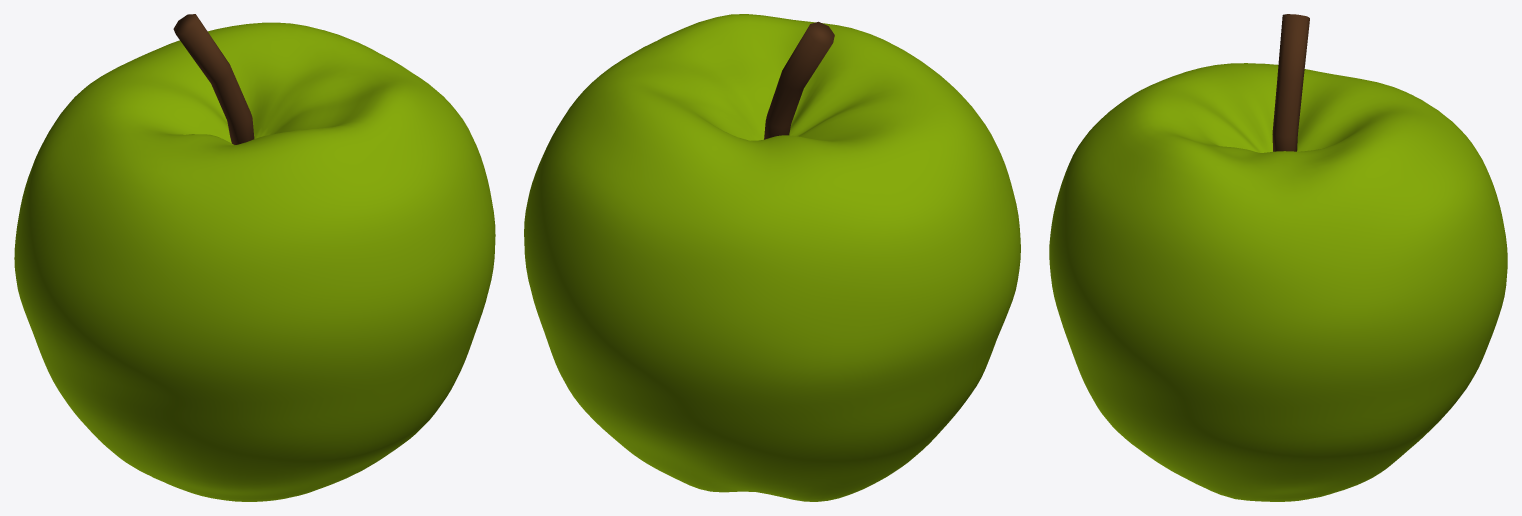
Rendered from Apple.fbx.
The picture shows the model from 3 angles, left to right: view 1: azimuth 30°, elevation 25°; view 2: azimuth 150°, elevation 25°; view 3: azimuth 270°, elevation 25°; orthographic projection. The views are drawn at different scales.
Parts seen in each view (by area): view 1: Apple, Stem; view 2: Apple, Stem; view 3: Apple, Stem.
Part boxes in pixels (<box>): Apple: <box>14,22,495,501</box>; Stem: <box>173,14,254,144</box>; Apple: <box>524,14,1020,501</box>; Stem: <box>764,21,834,139</box>; Apple: <box>1049,63,1507,501</box>; Stem: <box>1272,14,1309,151</box>.
Size of the model in its own units: 183 by 187 by 182.
